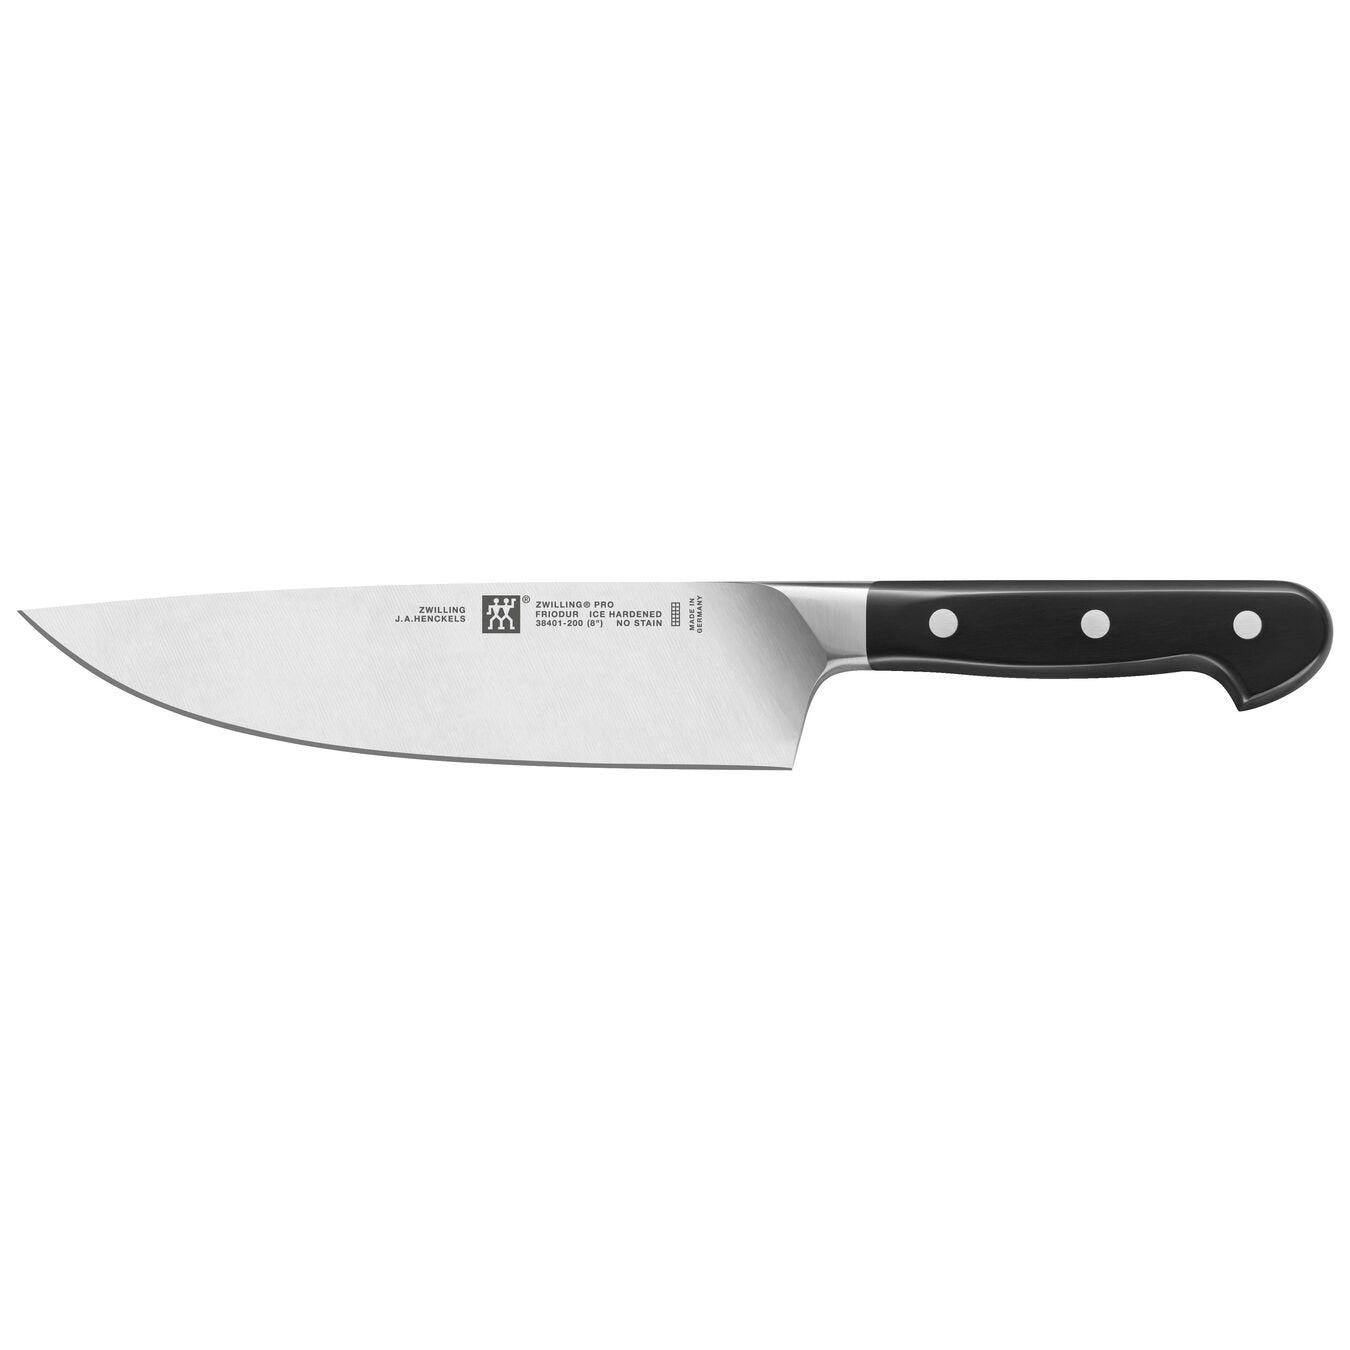Knife: (17, 576, 1333, 771)
